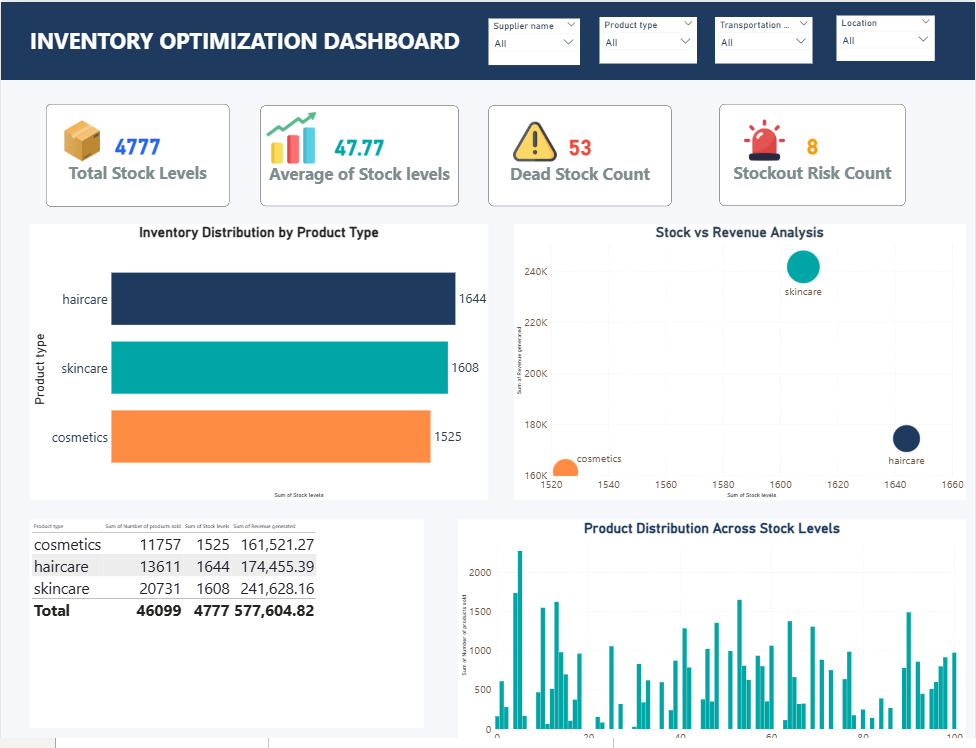

Layout of this report page (visuals, bound fields, positions):
{"tool":"powerbi","page":{"name":"Inventory Optimization Dashboard","canvas":[2500,2000],"ordinal":1},"visuals":[{"type":"card","fields":{"Values":["Sum(supply_chain_data (1).Stock levels)"]},"box":[115.4,261.5,470,263],"z":0},{"type":"card","fields":{"Values":["Avg(supply_chain_data (1).Stock levels)"]},"box":[665.4,265.4,507.7,257.7],"z":1000},{"type":"card","fields":{"Values":["supply_chain_data (1).Dead Stock Count"]},"box":[1250,265.4,469.2,257.7],"z":2000},{"type":"card","fields":{"Values":["supply_chain_data (1).Stockout Risk Count"]},"box":[1842.3,261.5,476.9,261.5],"z":3000},{"type":"barChart","title":"Inventory Distribution by Product Type","fields":{"Category":["supply_chain_data (1).Product type"],"Y":["Sum(supply_chain_data (1).Stock levels)"]},"box":[73.1,569.2,1176.9,707.7],"z":4000},{"type":"tableEx","fields":{"Values":["supply_chain_data (1).Product type","Sum(supply_chain_data (1).Number of products sold)","Sum(supply_chain_data (1).Stock levels)","Sum(supply_chain_data (1).Revenue generated)"]},"box":[73.1,1326.9,1011.5,534.6],"z":5000},{"type":"scatterChart","title":"Stock vs Revenue Analysis","fields":{"X":["Sum(supply_chain_data (1).Stock levels)"],"Y":["Sum(supply_chain_data (1).Revenue generated)"],"Size":["Sum(supply_chain_data (1).Number of products sold)"],"Series":["supply_chain_data (1).Product type"]},"box":[1315.4,569.2,1157.7,707.7],"z":6000},{"type":"clusteredColumnChart","title":"Product Distribution Across Stock Levels","fields":{"Category":["supply_chain_data (1).Stock levels"],"Y":["Sum(supply_chain_data (1).Number of products sold)"]},"box":[1173.1,1326.9,1300,600],"z":7000},{"type":"shape","box":[0,0,2500,200],"z":8000},{"type":"textbox","box":[0,0,1250,200],"z":9000},{"type":"slicer","fields":{"Values":["supply_chain_data (1).Supplier name"]},"box":[1250,42.3,234.6,119.2],"z":10000},{"type":"slicer","fields":{"Values":["supply_chain_data (1).Product type"]},"box":[1534.6,38.5,250,119.2],"z":11000},{"type":"slicer","fields":{"Values":["supply_chain_data (1).Transportation modes"]},"box":[1830.8,38.5,250,119.2],"z":12000},{"type":"slicer","fields":{"Values":["supply_chain_data (1).Location"]},"box":[2142.2,36,251.7,116.8],"z":13000},{"type":"image","box":[142.3,292.3,130.8,126.9],"z":14000},{"type":"image","box":[665.4,276.9,157.7,142.3],"z":15000},{"type":"image","box":[1296.2,296.2,146.2,123.1],"z":16000},{"type":"image","box":[1892.3,296.2,130.8,115.4],"z":17000}]}

Visuals, with their boxes on the page's 2500x2000 design canvas (x1, y1, x2, y2). These are canvas units, not pixel positions in the 976x748 screenshot, which may show the page scaled, cropped or inside an application window:
card - Sum(supply_chain_data (1).Stock levels): select_region(115, 262, 585, 524)
card - Avg(supply_chain_data (1).Stock levels): select_region(665, 265, 1173, 523)
card - supply_chain_data (1).Dead Stock Count: select_region(1250, 265, 1719, 523)
card - supply_chain_data (1).Stockout Risk Count: select_region(1842, 262, 2319, 523)
"Inventory Distribution by Product Type" barChart: select_region(73, 569, 1250, 1277)
tableEx - supply_chain_data (1).Product type x Sum(supply_chain_data (1).Number of products sold): select_region(73, 1327, 1085, 1862)
"Stock vs Revenue Analysis" scatterChart: select_region(1315, 569, 2473, 1277)
"Product Distribution Across Stock Levels" clusteredColumnChart: select_region(1173, 1327, 2473, 1927)
shape: select_region(0, 0, 2500, 200)
textbox: select_region(0, 0, 1250, 200)
slicer - supply_chain_data (1).Supplier name: select_region(1250, 42, 1485, 162)
slicer - supply_chain_data (1).Product type: select_region(1535, 38, 1785, 158)
slicer - supply_chain_data (1).Transportation modes: select_region(1831, 38, 2081, 158)
slicer - supply_chain_data (1).Location: select_region(2142, 36, 2394, 153)
image: select_region(142, 292, 273, 419)
image: select_region(665, 277, 823, 419)
image: select_region(1296, 296, 1442, 419)
image: select_region(1892, 296, 2023, 412)
